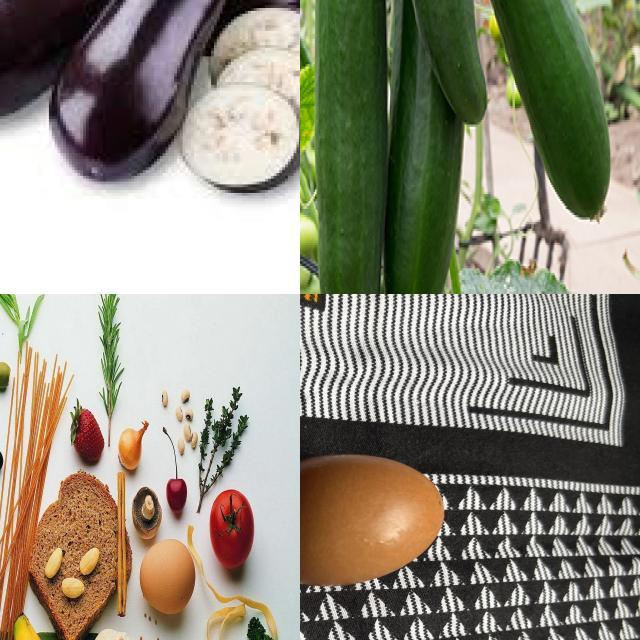cucumber: (443, 1, 618, 224), (385, 1, 464, 295), (310, 1, 388, 295), (375, 1, 489, 129)
egg: (301, 449, 456, 588), (143, 537, 196, 615)
eggplant: (50, 1, 237, 179), (1, 1, 166, 114)
garlic: (182, 389, 192, 404), (185, 425, 193, 443), (177, 407, 185, 423), (163, 393, 169, 411), (193, 428, 197, 452), (180, 441, 185, 456)
onion: (120, 428, 144, 473)
tomato: (211, 490, 253, 566)
